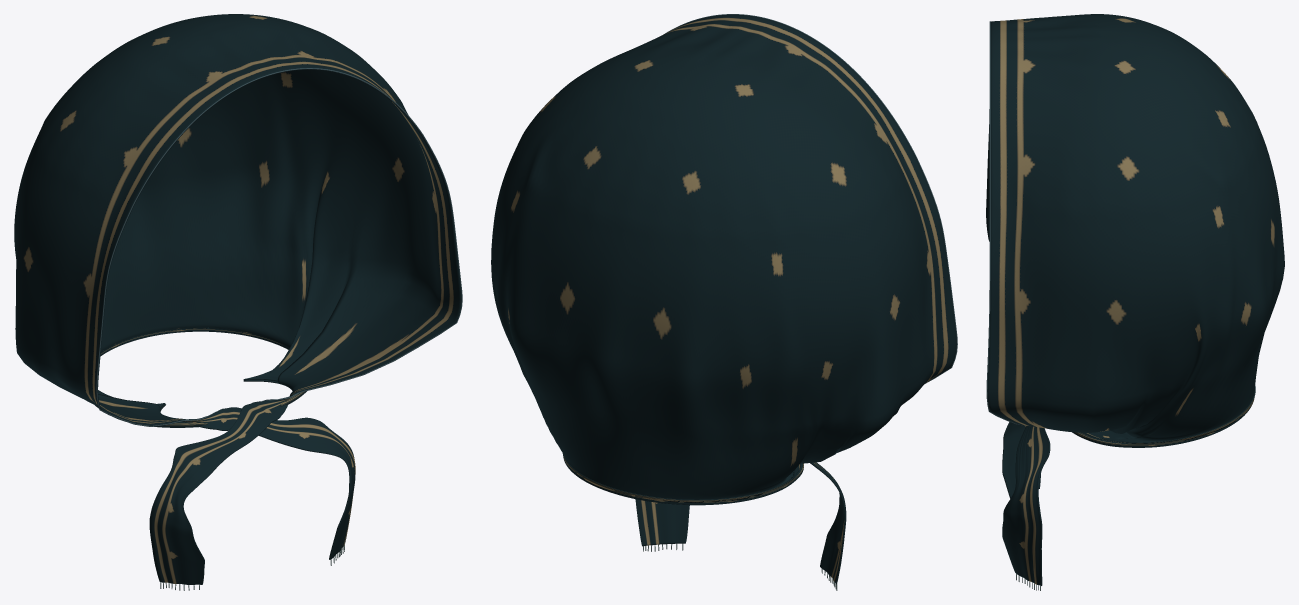
The model's file is Feminine-jersey-long-pashmina248-headgear.glb.
3 views of the same model, side by side, from view 1: azimuth 30°, elevation 25°; view 2: azimuth 150°, elevation 25°; view 3: azimuth 270°, elevation 25° (orthographic). The views are drawn at different scales.
Visible parts, largest first — view 1: 226 headgear / Headwear / continuous woven pashmina239, 226 headgear / Headwear / face edge239; view 2: 226 headgear / Headwear / continuous woven pashmina239, 226 headgear / Headwear / face edge239; view 3: 226 headgear / Headwear / continuous woven pashmina239, 226 headgear / Headwear / face edge239.
Part boxes in pixels (x1,y1,x2,y2): 226 headgear / Headwear / continuous woven pashmina239: (14,14,461,584); 226 headgear / Headwear / face edge239: (96,68,462,426); 226 headgear / Headwear / continuous woven pashmina239: (491,14,956,584); 226 headgear / Headwear / face edge239: (665,14,957,383); 226 headgear / Headwear / continuous woven pashmina239: (986,14,1284,585); 226 headgear / Headwear / face edge239: (986,21,1027,425).
Size of the model in its own units: 1.02 by 1.35 by 0.7112.
Materials: 3 (1 with a texture image).
